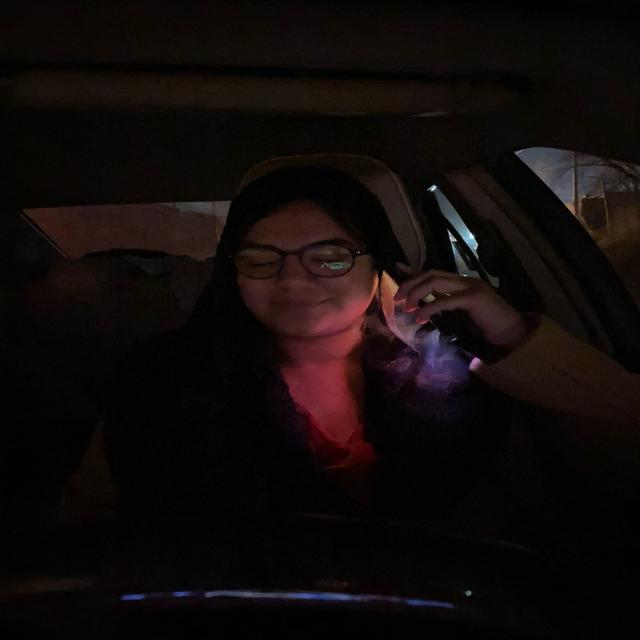mobile: (379, 275, 446, 376)
person: (218, 179, 376, 356)
